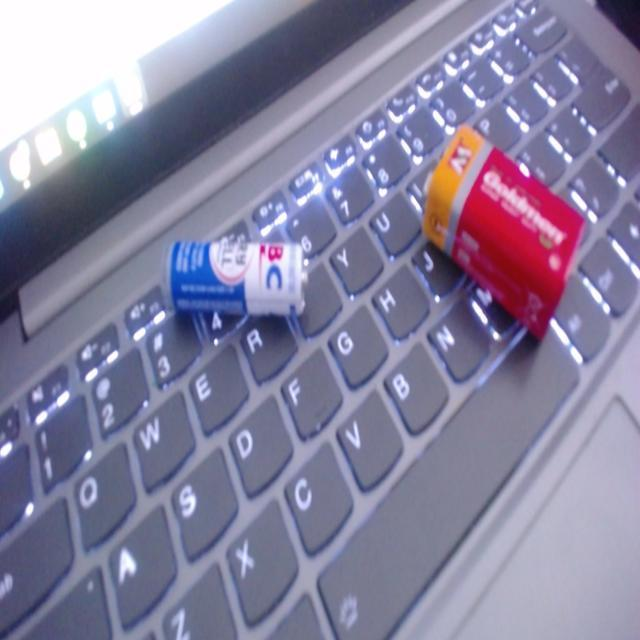9V: (400, 108, 590, 344)
AA: (152, 228, 322, 344)
